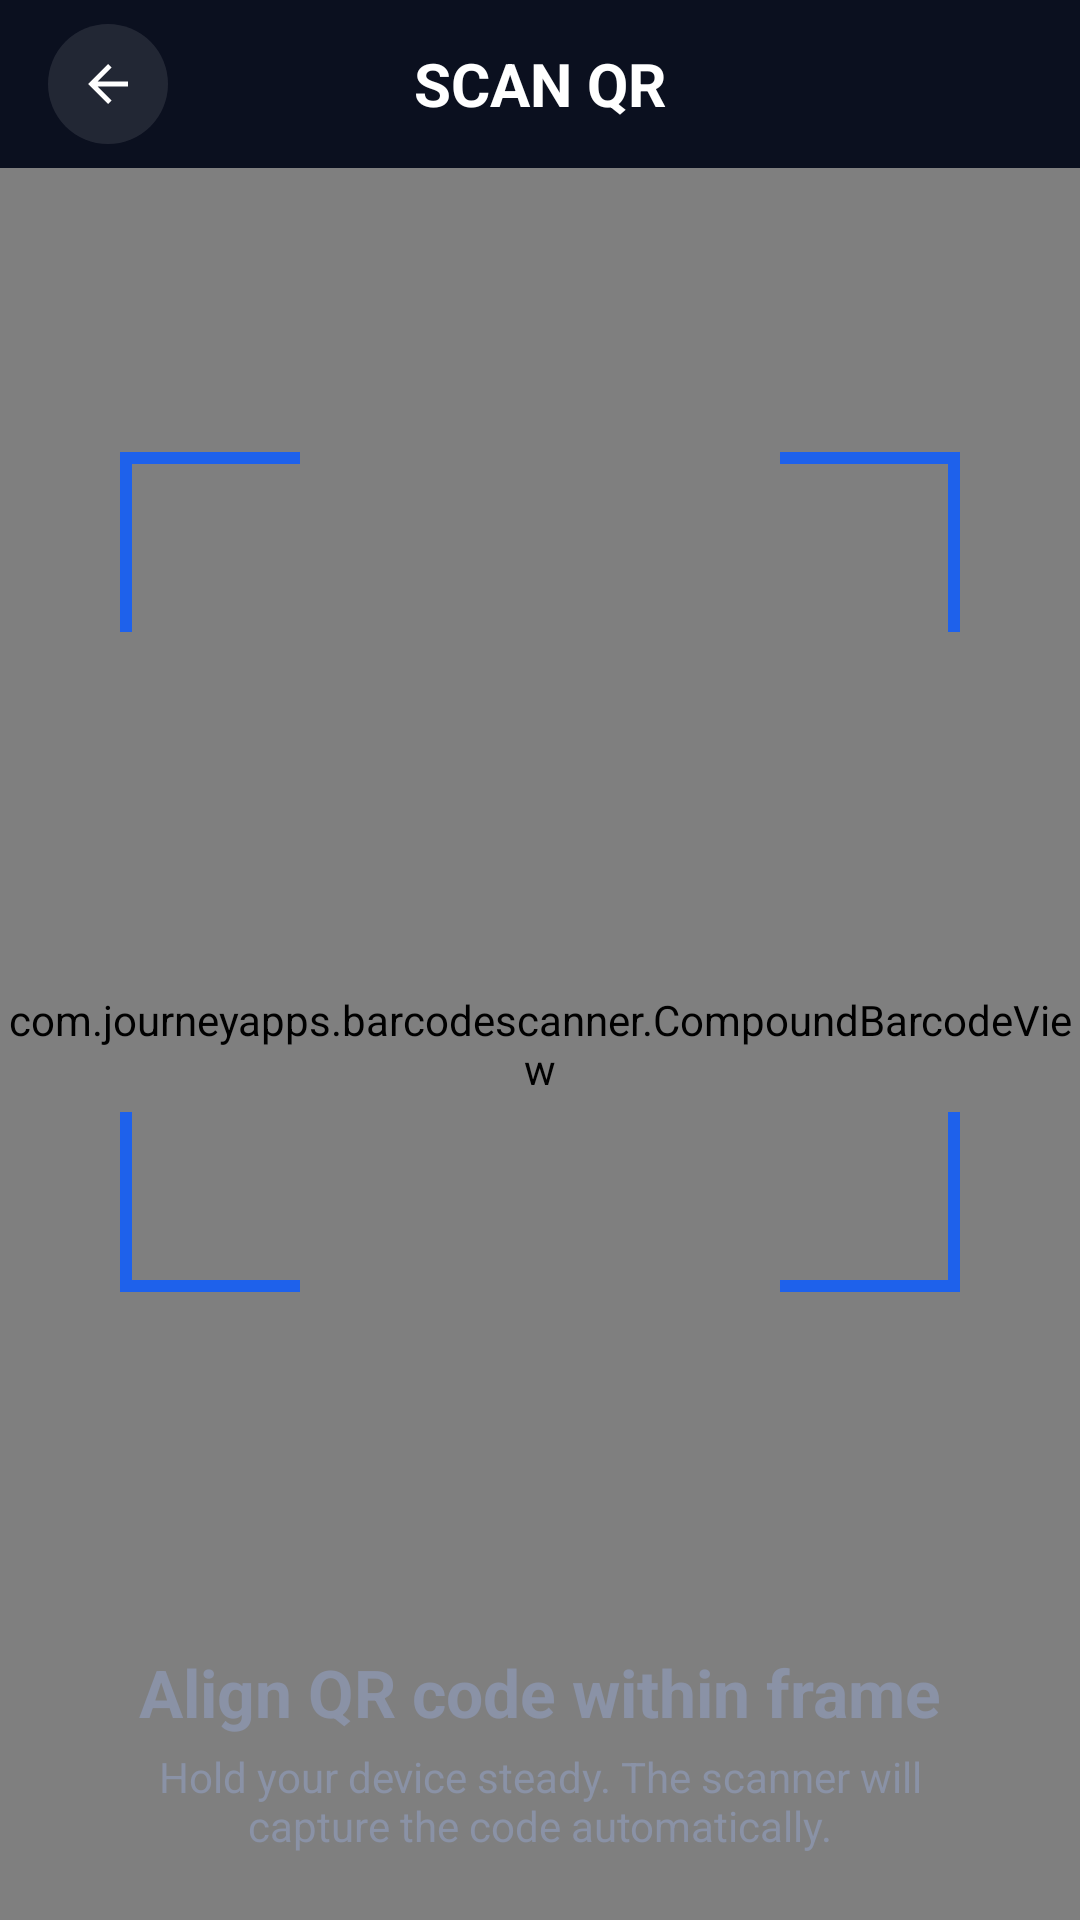

Icon bounding boxes for this 1080x1920 phone screenshot, format bbox=(x1, y1, x2, y2):
back two: bbox=(48, 24, 168, 144)
